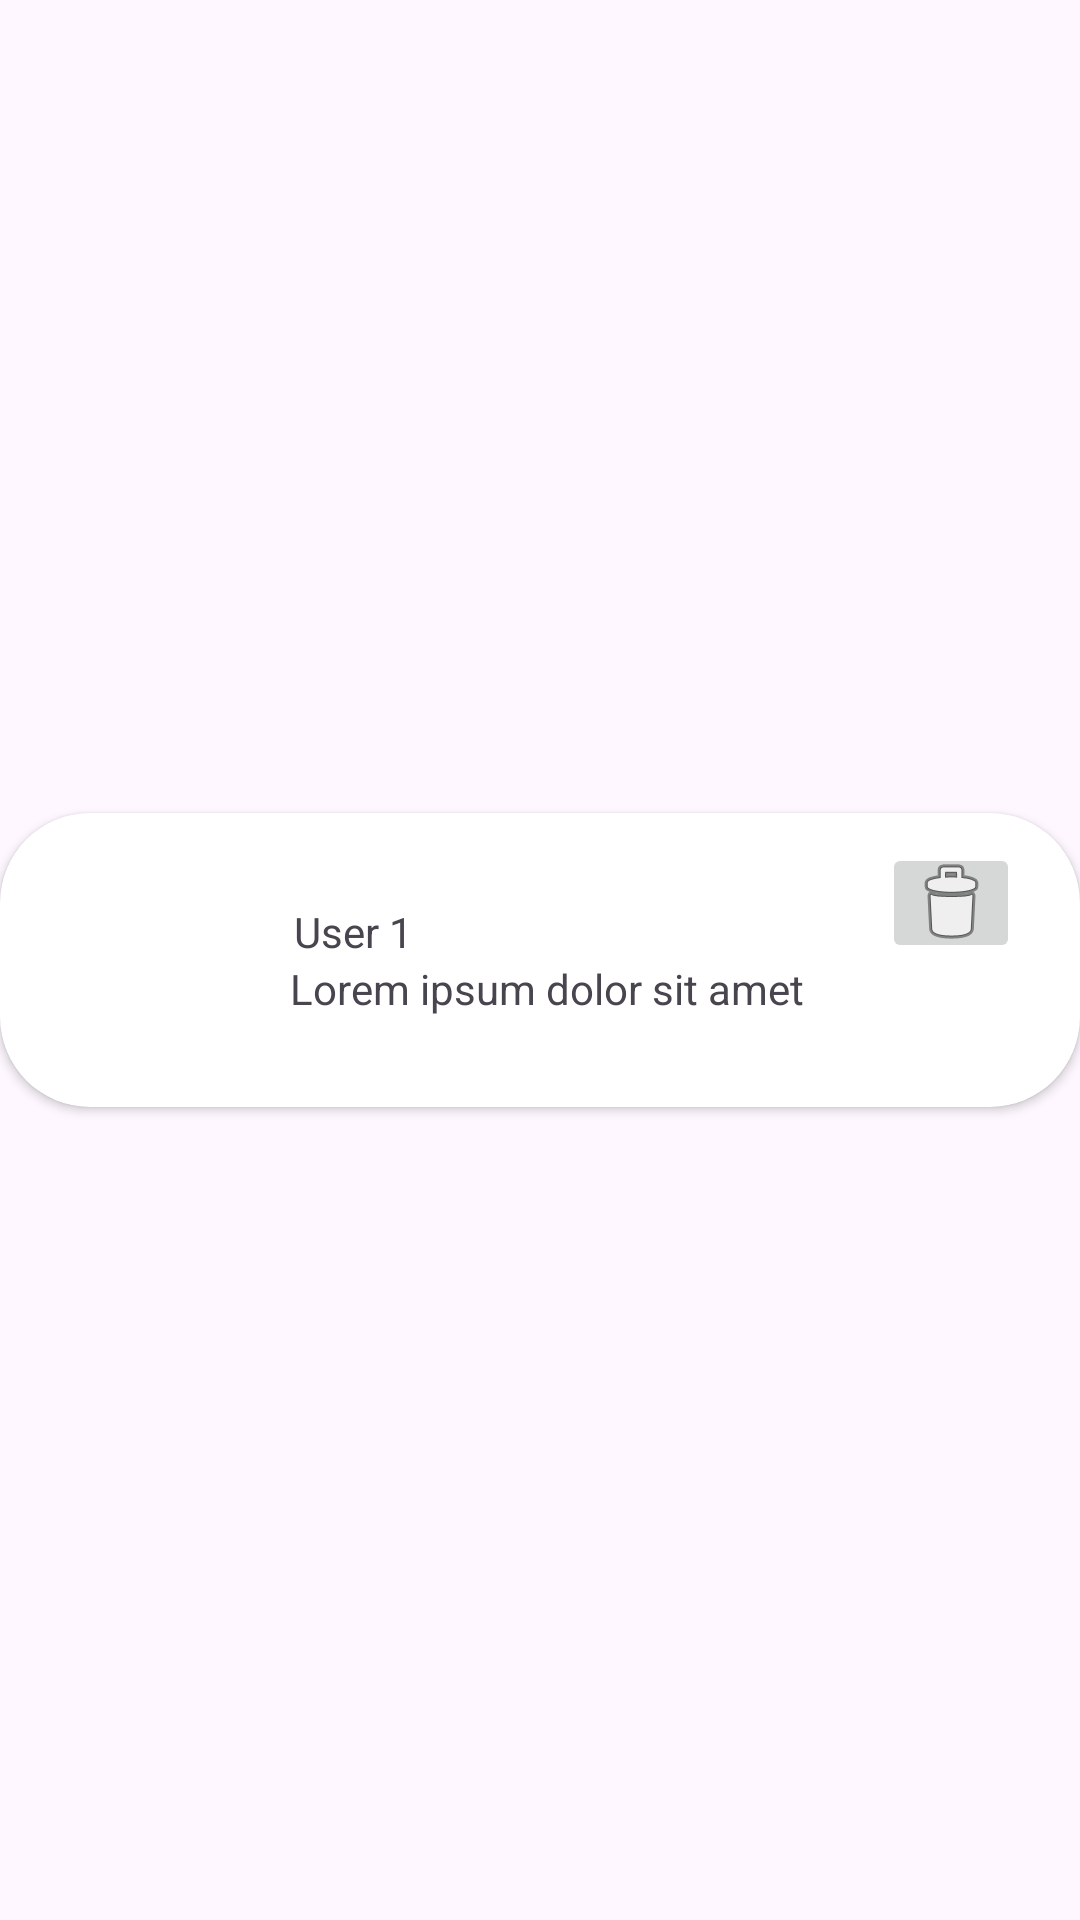

Where to tap for icons on this 1080×1920 app screen, as point (x, y):
delete: point (951, 903)
